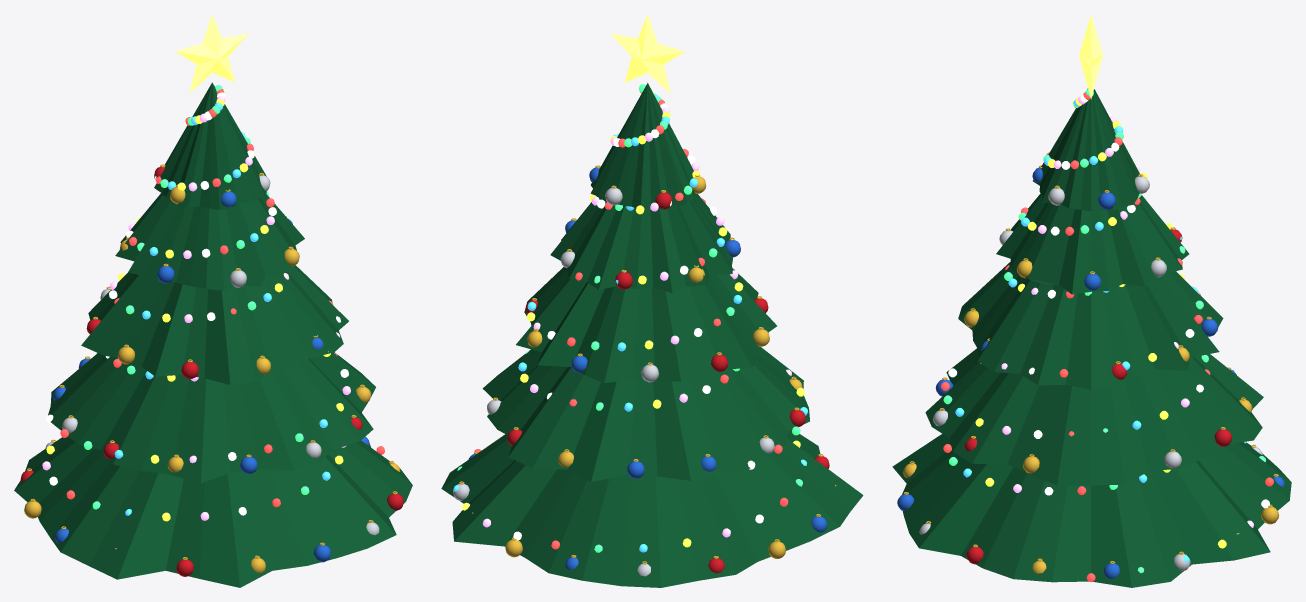
File: tree_big.glb
3 renders of one model, left to right at view 1: azimuth 30°, elevation 25°; view 2: azimuth 150°, elevation 25°; view 3: azimuth 270°, elevation 25°, orthographic.
Visible parts, largest first — view 1: tree_big; view 2: tree_big; view 3: tree_big.
Part boxes in pixels (x1,y1,x2,y2): tree_big: (14,14,412,587); tree_big: (441,14,863,587); tree_big: (892,14,1291,587).
Size of the model in its own units: 6.67 by 9.75 by 6.59.
